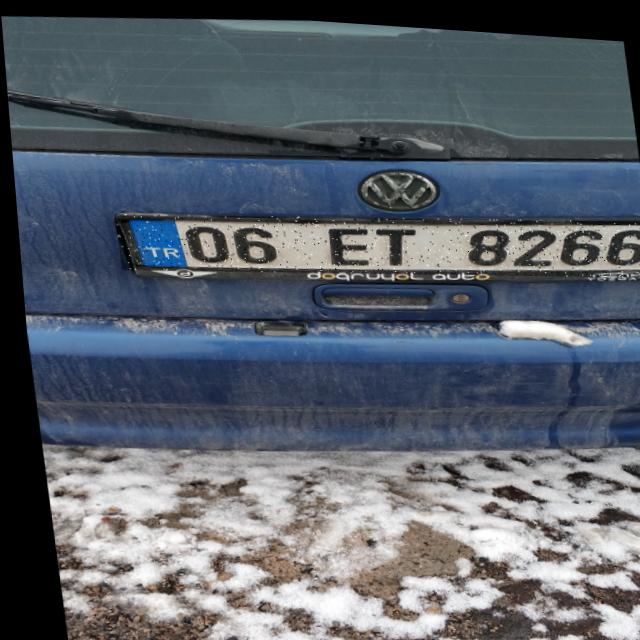license_plate: (110, 185, 640, 297)
